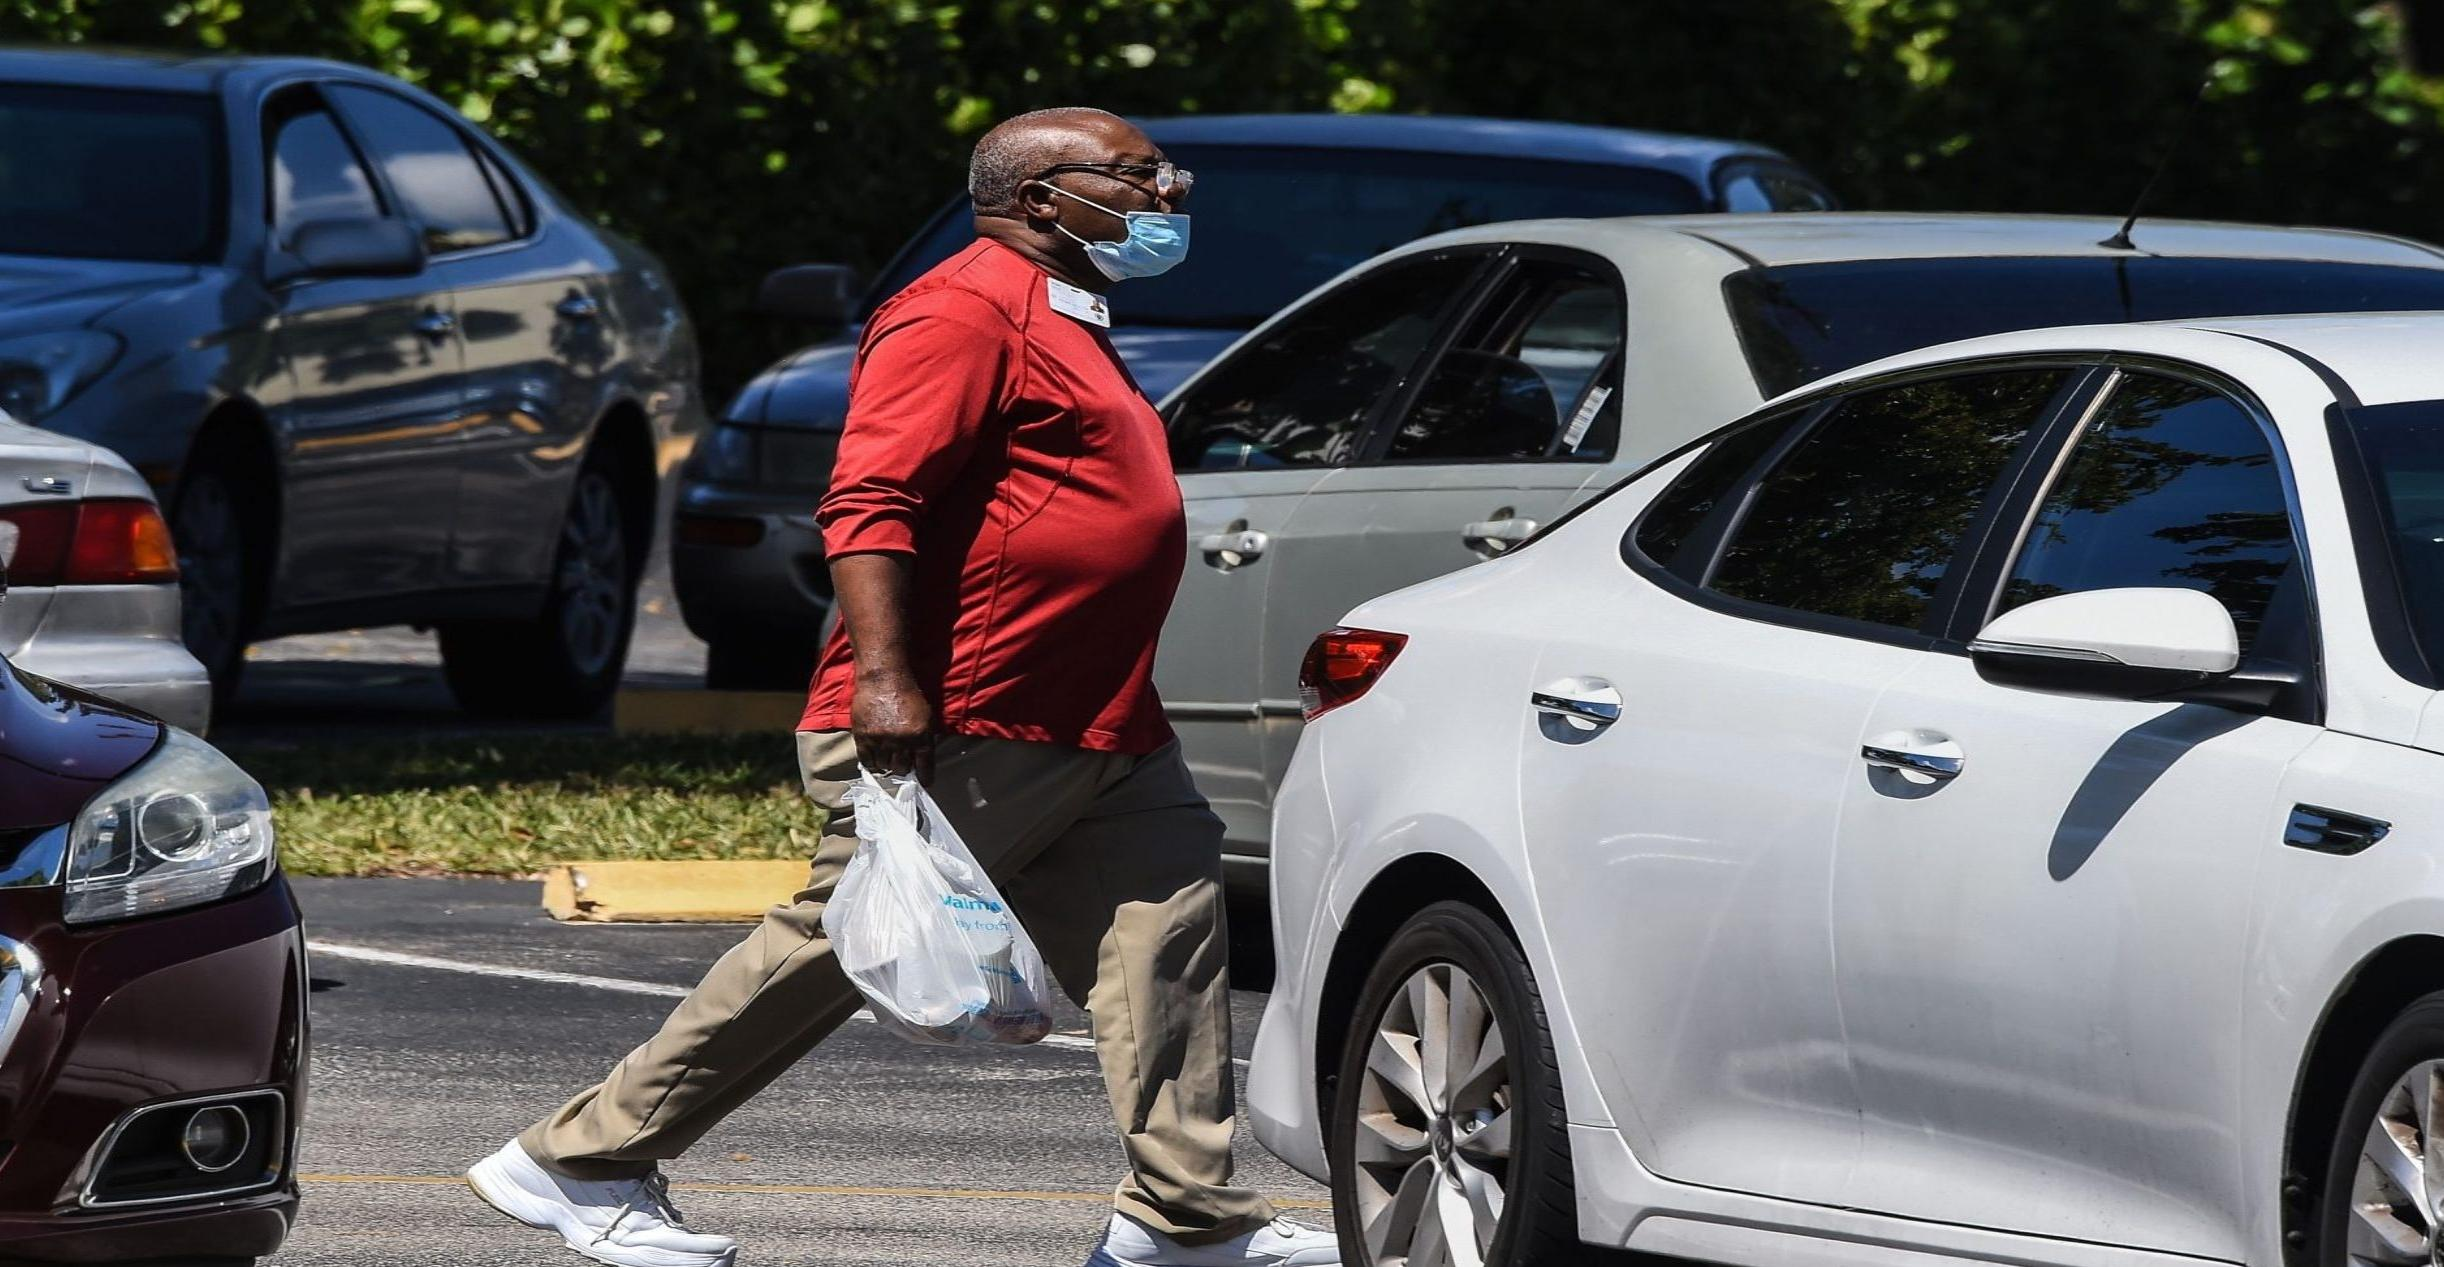mask_weared_incorrect: (996, 98, 1238, 318), (952, 106, 1205, 295)
